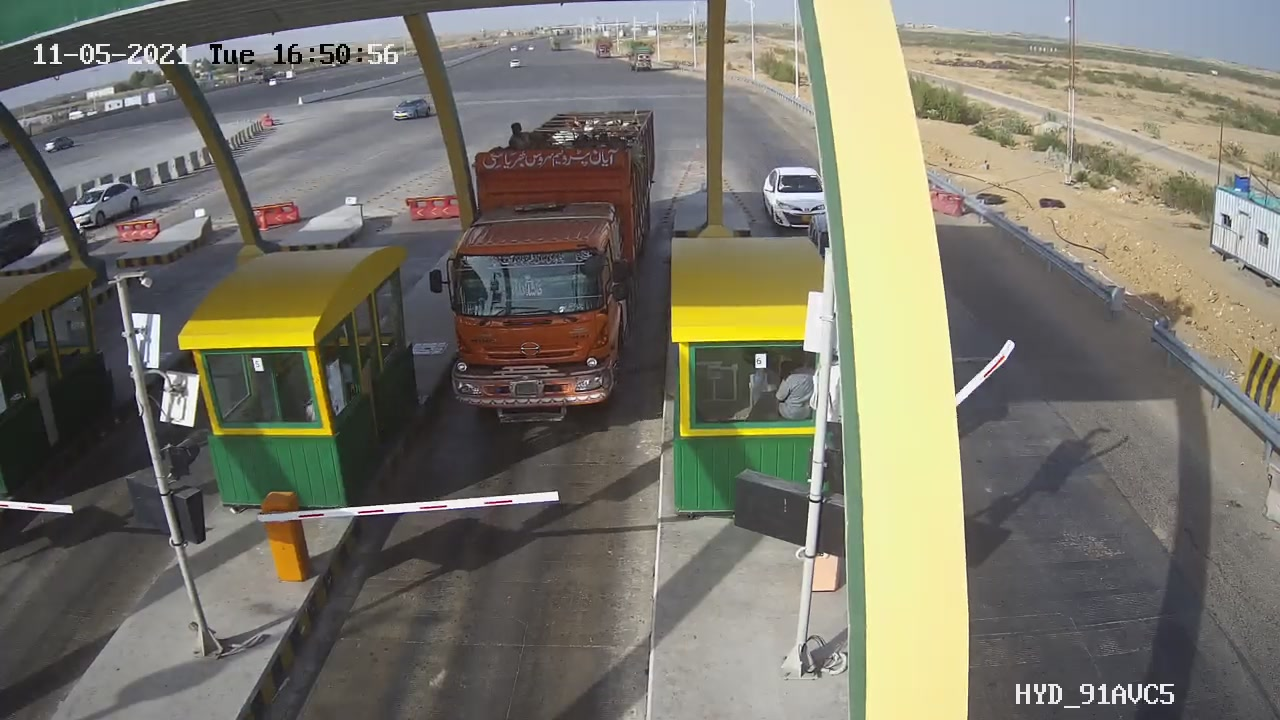F6: (414, 92, 672, 447)
